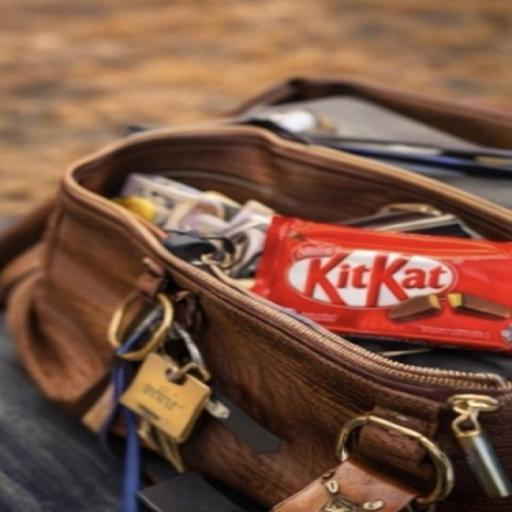kitkat: (243, 183, 512, 391)
